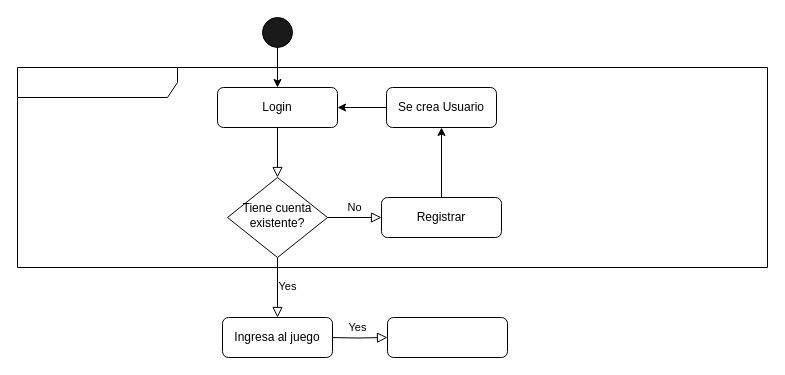
Image size: 785x375. Some labels were removed from this diagram. Here are the shapes that lost their labels. From the top down, the centre of each, then its label:
At (392,167): "Loop: Timeout y exceso de intentos".
At (447,337): "Jugar Partida".
